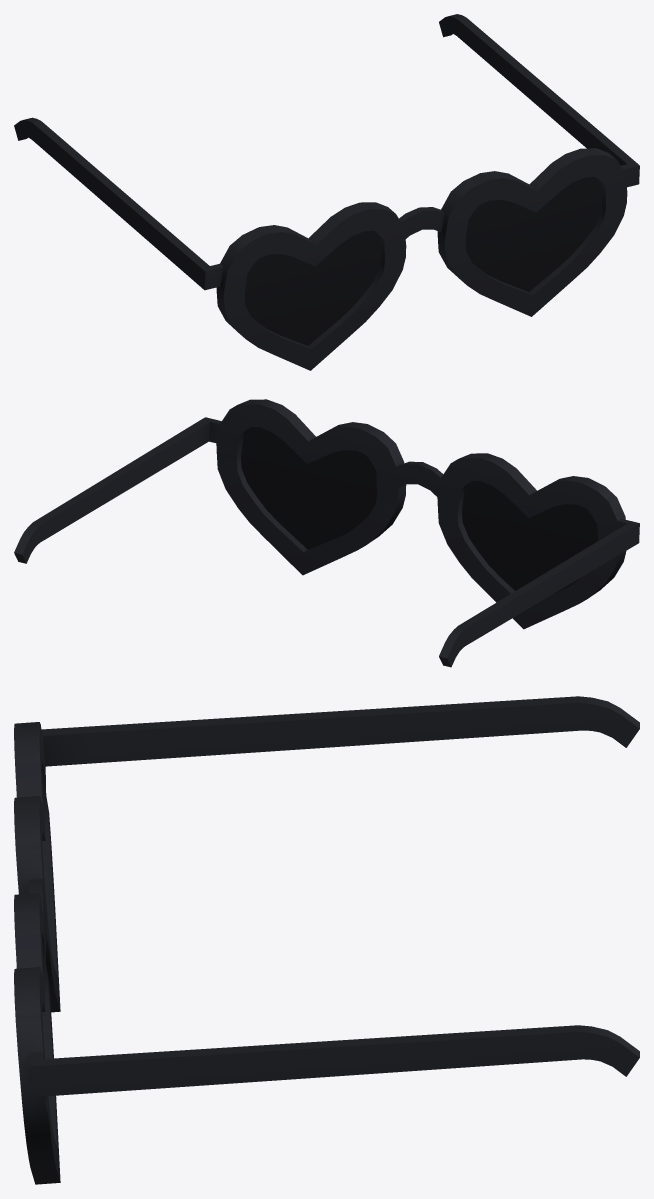
Rendered from SM_MISC_Glasses_HeartSunglasses.fbx.
3 views of the same model, one above another, from view 1: azimuth 30°, elevation 25°; view 2: azimuth 150°, elevation 25°; view 3: azimuth 270°, elevation 25° (orthographic). The views are drawn at different scales.
Parts seen in each view (by area): view 1: MISC_Glasses_HeartSunglasses; view 2: MISC_Glasses_HeartSunglasses; view 3: MISC_Glasses_HeartSunglasses.
Boxes of the visible parts, x1,y1,x2,y2 form: MISC_Glasses_HeartSunglasses: (14, 14, 639, 370); MISC_Glasses_HeartSunglasses: (14, 399, 639, 667); MISC_Glasses_HeartSunglasses: (14, 696, 639, 1184).
Bounding box in the file's own units: 57.08 × 19.49 × 44.88.
Materials: 1 (1 with a texture image).
